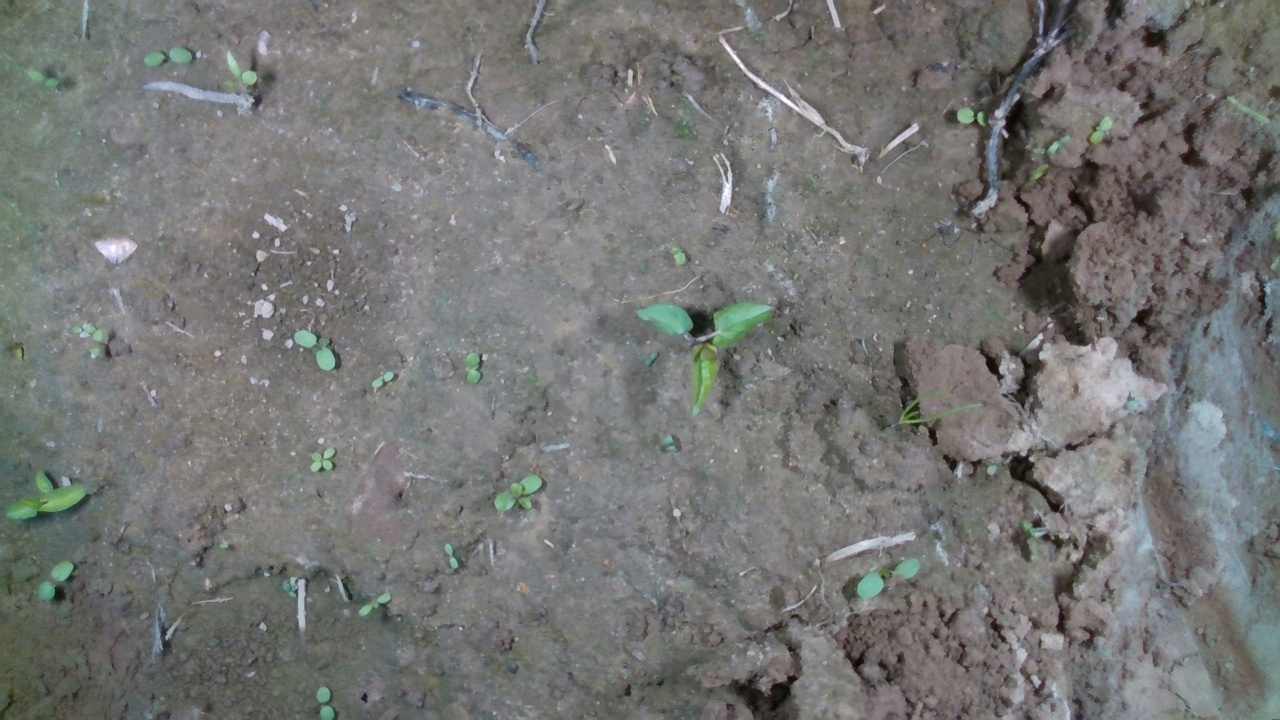weed: (855, 556, 921, 600), (491, 472, 544, 517), (292, 328, 337, 372), (34, 558, 74, 603), (140, 44, 193, 68), (357, 592, 392, 617), (955, 105, 993, 128), (309, 445, 337, 473), (462, 351, 484, 386), (24, 68, 60, 89), (1089, 114, 1113, 145), (315, 685, 336, 719), (369, 369, 395, 389), (444, 542, 460, 571), (667, 246, 688, 267), (643, 347, 660, 367)
